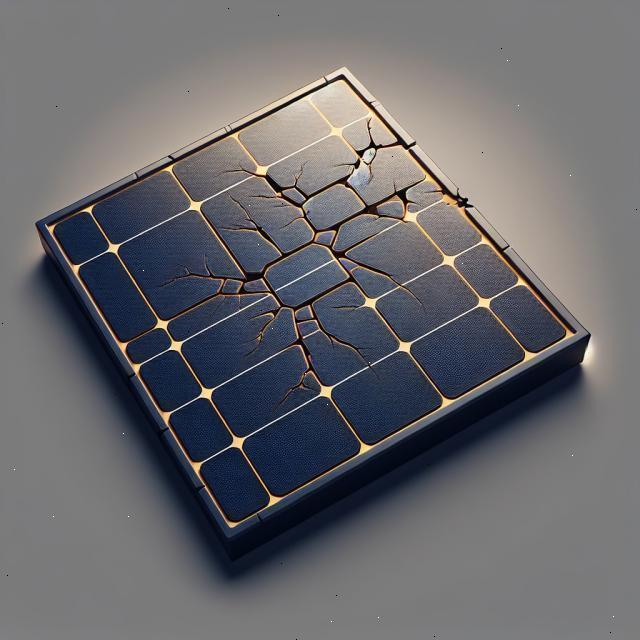Anomaly Solar Panel: (43, 22, 575, 532)
Structural Damage: (199, 189, 331, 293), (295, 301, 389, 384), (247, 324, 325, 409), (343, 246, 431, 314), (266, 256, 369, 314), (161, 243, 246, 304), (228, 296, 282, 361), (259, 166, 310, 210), (354, 187, 410, 226), (355, 115, 402, 160), (317, 202, 360, 245), (274, 206, 317, 247), (347, 140, 378, 183), (341, 227, 381, 253), (236, 270, 271, 294), (212, 161, 264, 177), (322, 243, 346, 263), (288, 158, 306, 184), (247, 191, 277, 200), (336, 175, 349, 188), (329, 303, 359, 308)
